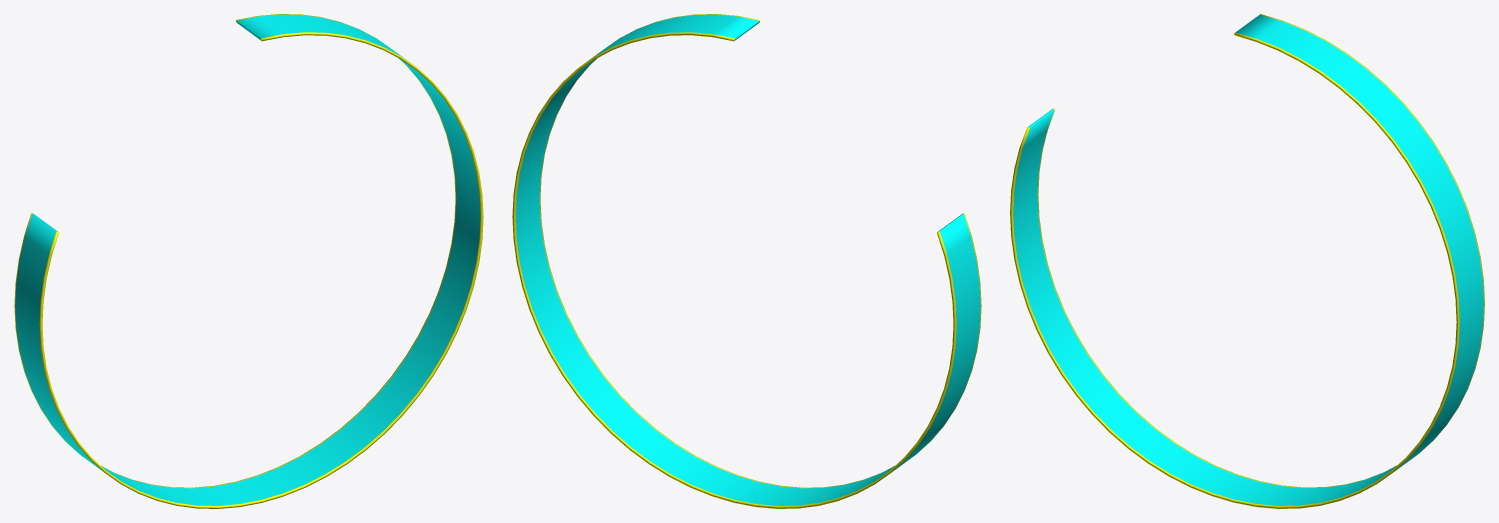
The model's file is TouchNote12.fbx.
3 views of the same model, side by side, from view 1: azimuth 30°, elevation 25°; view 2: azimuth 150°, elevation 25°; view 3: azimuth 330°, elevation 25° (orthographic).
Visible parts, largest first — view 1: TouchNote12; view 2: TouchNote12; view 3: TouchNote12.
Boxes of the visible parts, left/top/right/bottom form: TouchNote12: left=14, top=14, right=483, bottom=508; TouchNote12: left=512, top=14, right=981, bottom=508; TouchNote12: left=1010, top=14, right=1484, bottom=508.
Size of the model in its own units: 198 by 20 by 198.
